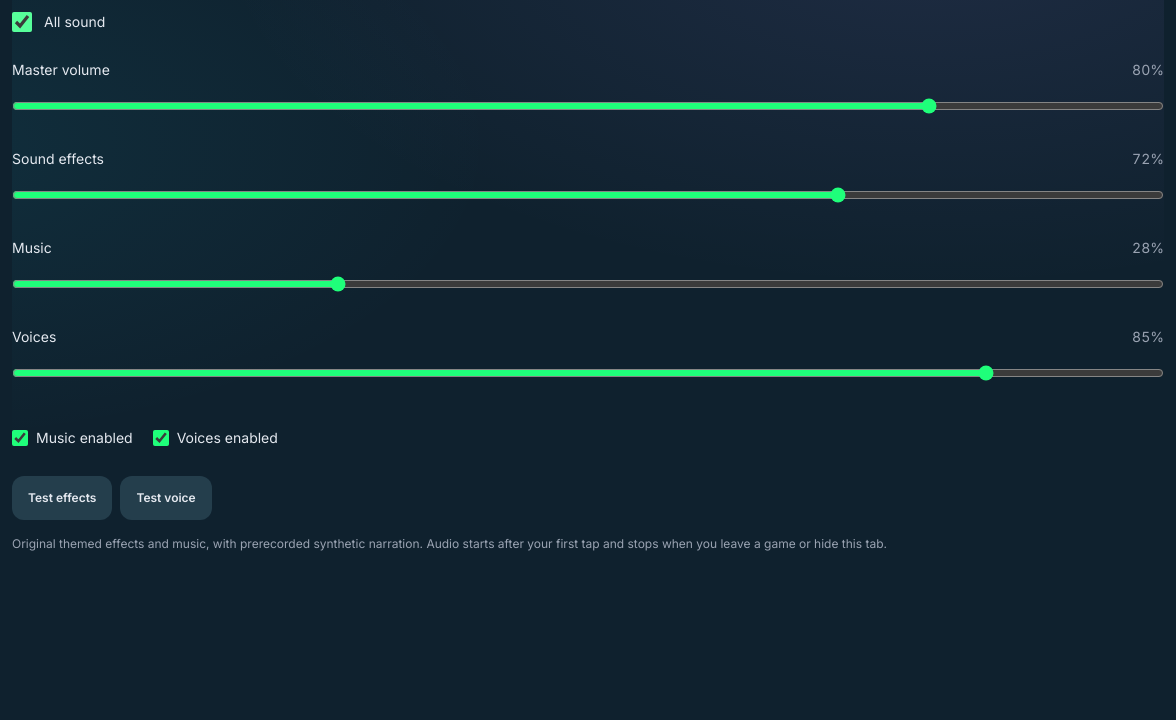
Test: audio preferences and theme coverage › mixer controls save independently and include accessible tests
Set the slider labelled "Master volume" to "43" at (508, 106), box left=12, top=84, right=1164, bottom=128
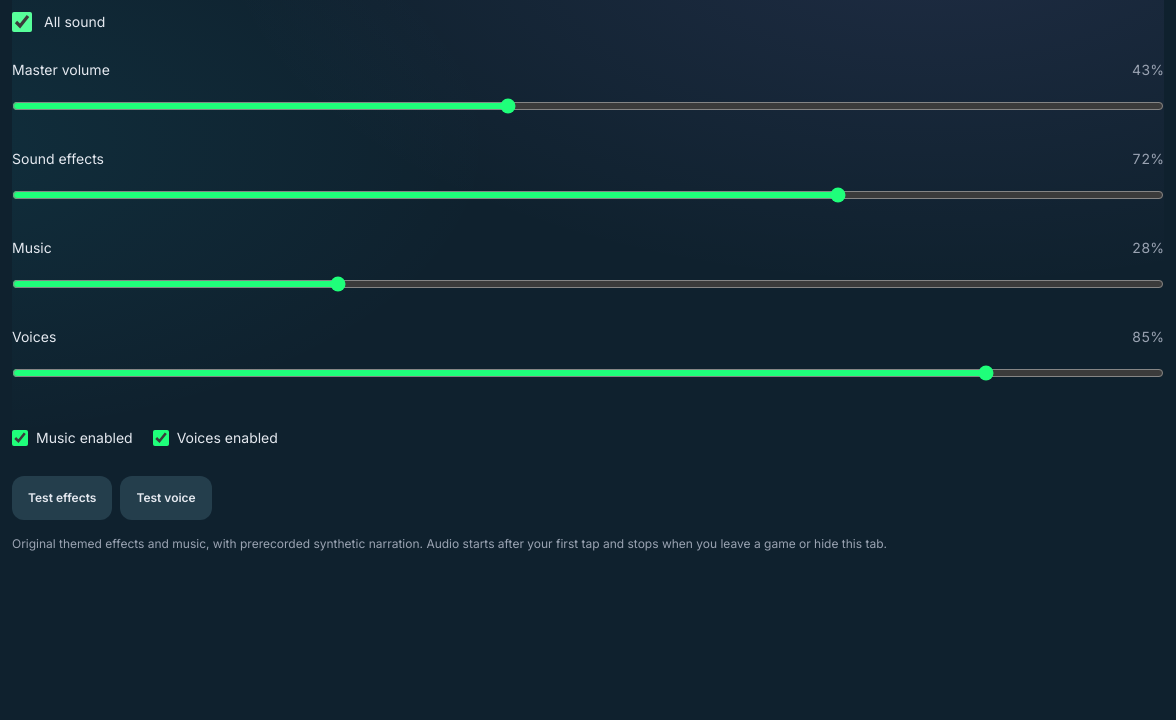
Set the slider labelled "Sound effects" to "12" at (156, 195), box left=12, top=173, right=1164, bottom=217
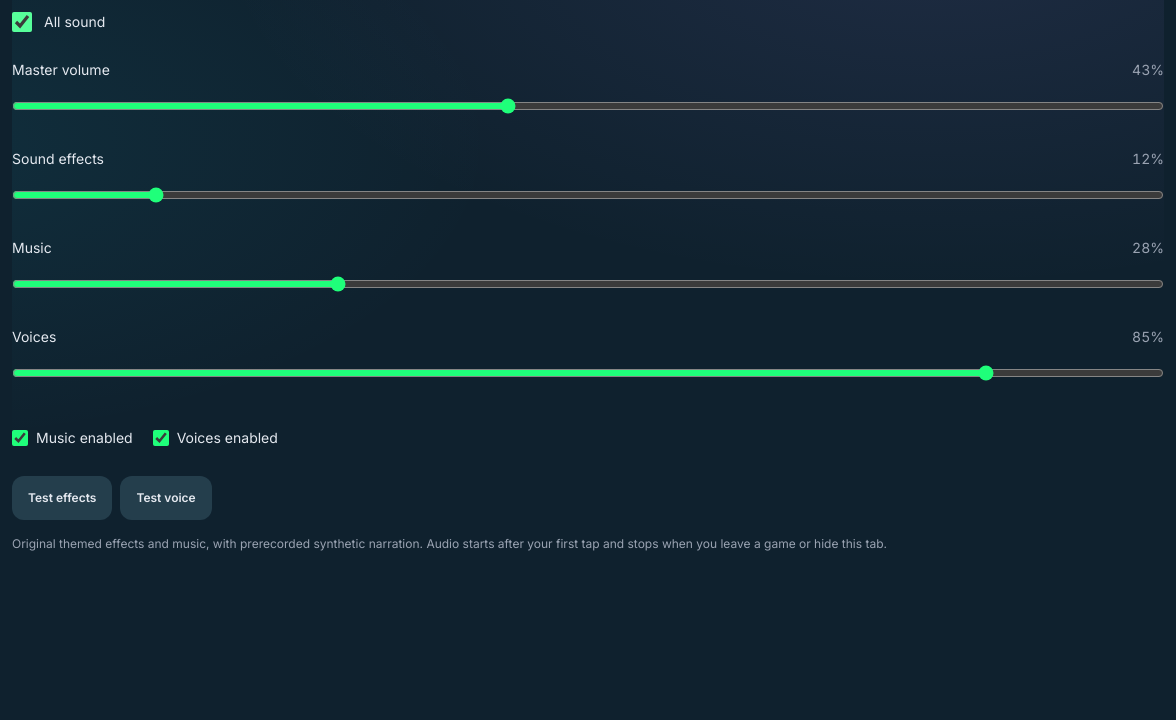
Click the checkbox labelled "Voices enabled".
click(161, 438)  # box left=153, top=430, right=169, bottom=446
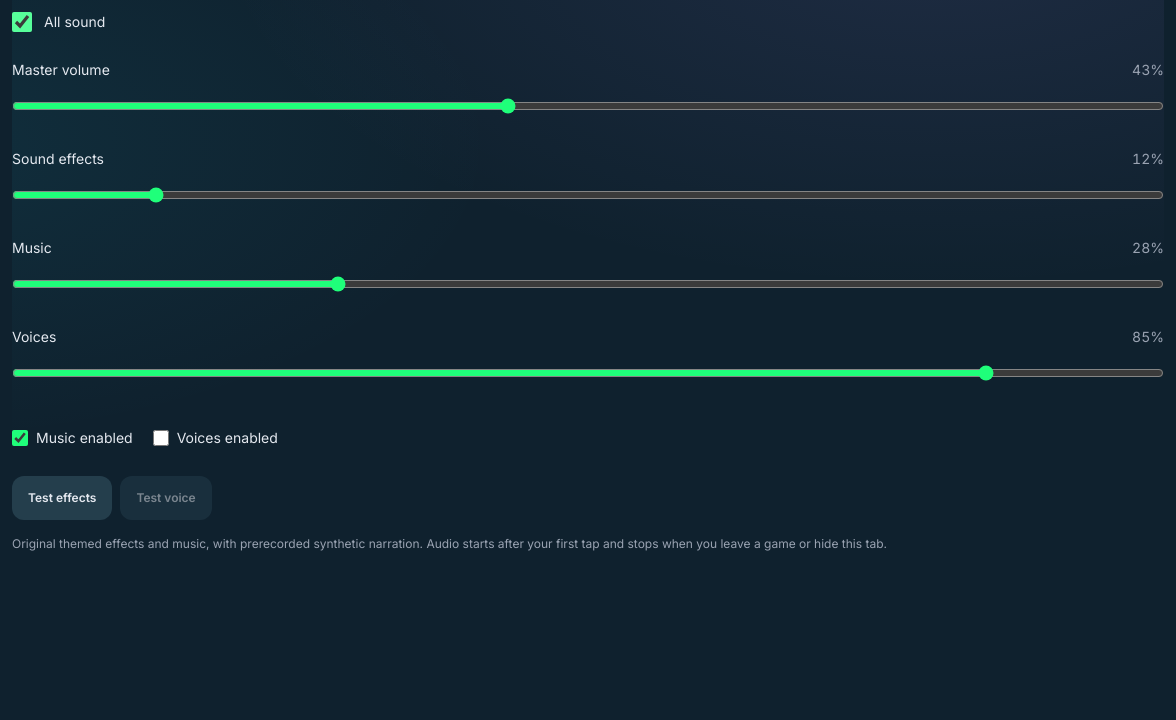
Expected: the button "Test effects" is enabled, left=12, top=476, right=112, bottom=520
Expected: the button "Test voice" is disabled, left=120, top=476, right=212, bottom=520
